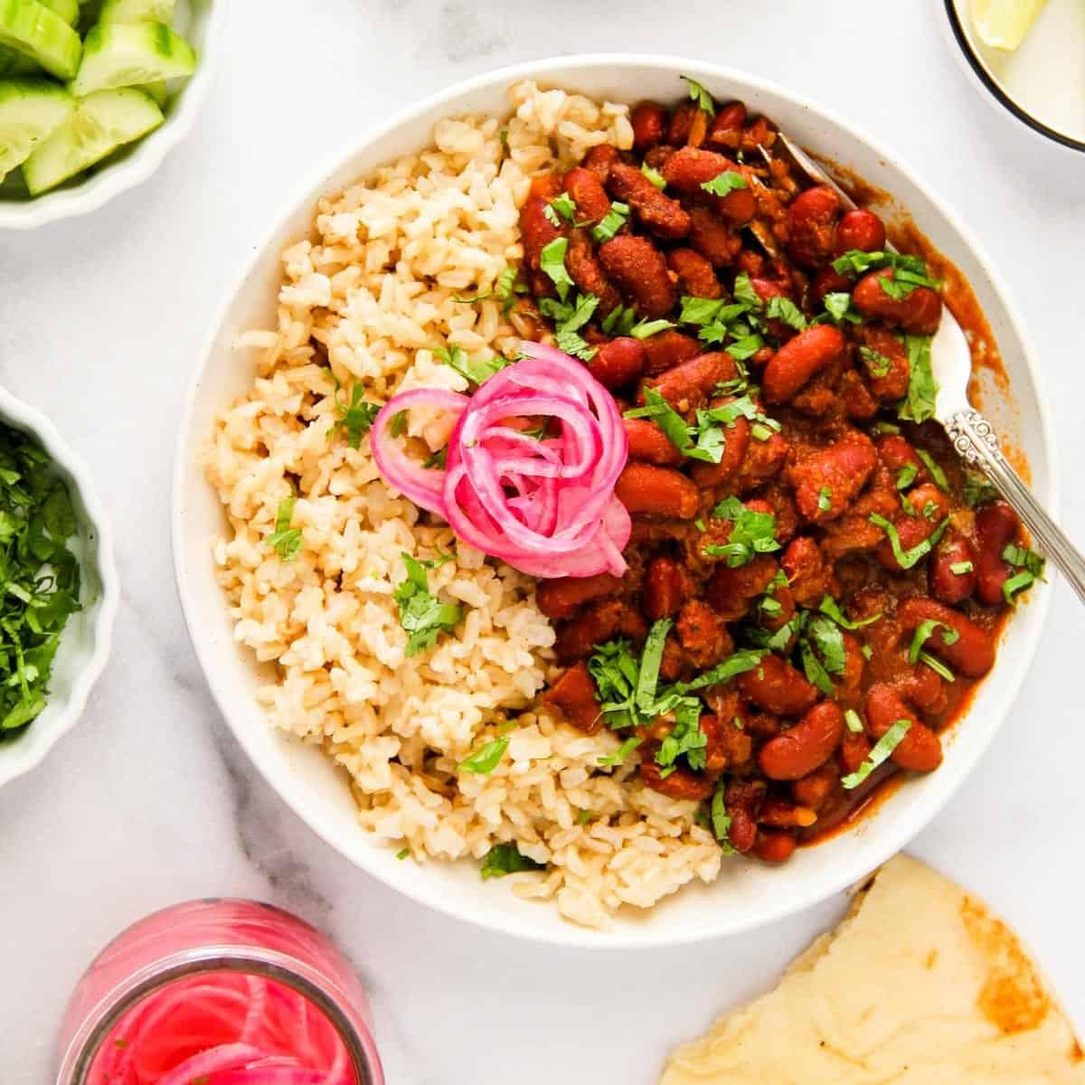rajma: (624, 151, 1028, 826)
rice: (220, 157, 585, 964)
